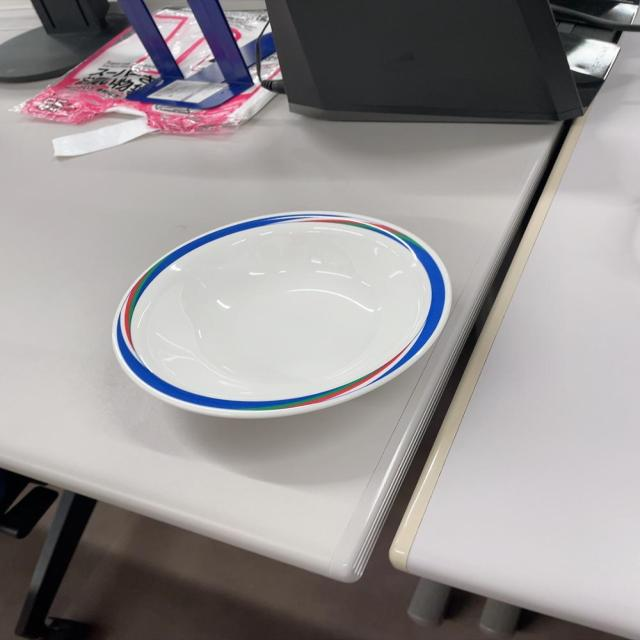plate: (107, 209, 452, 423)
